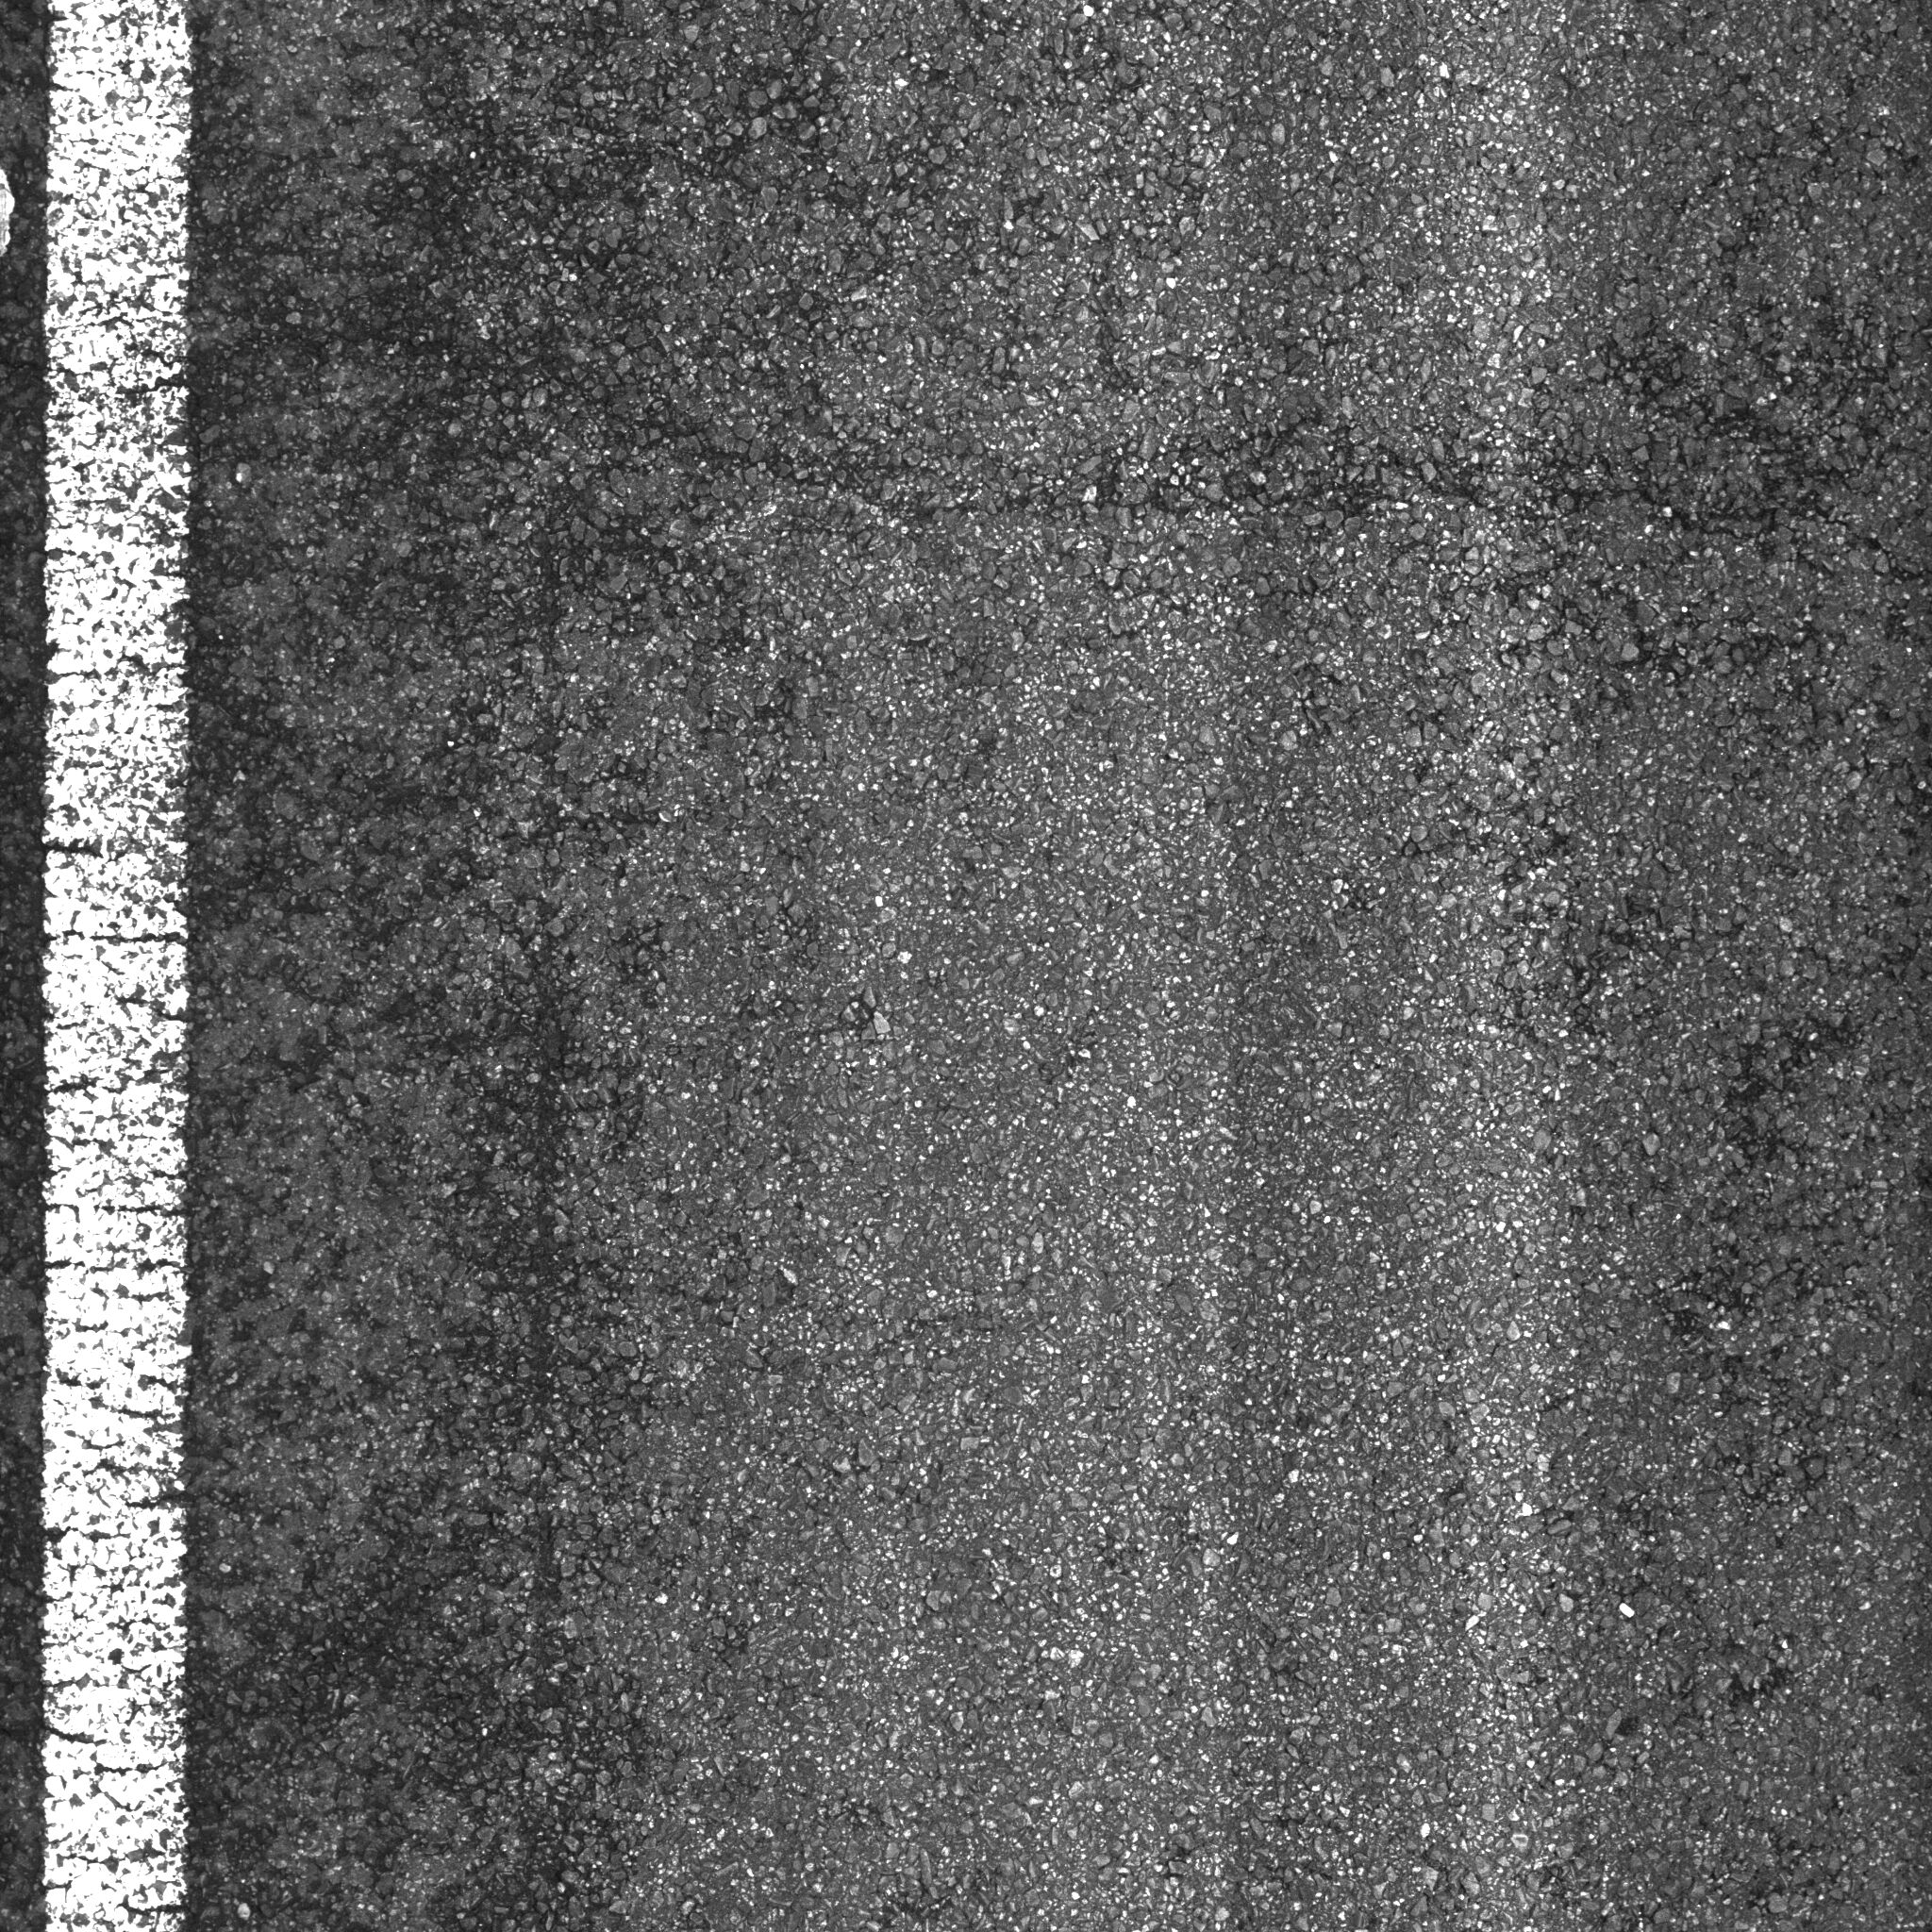transeverse: (372, 313, 1907, 605)
